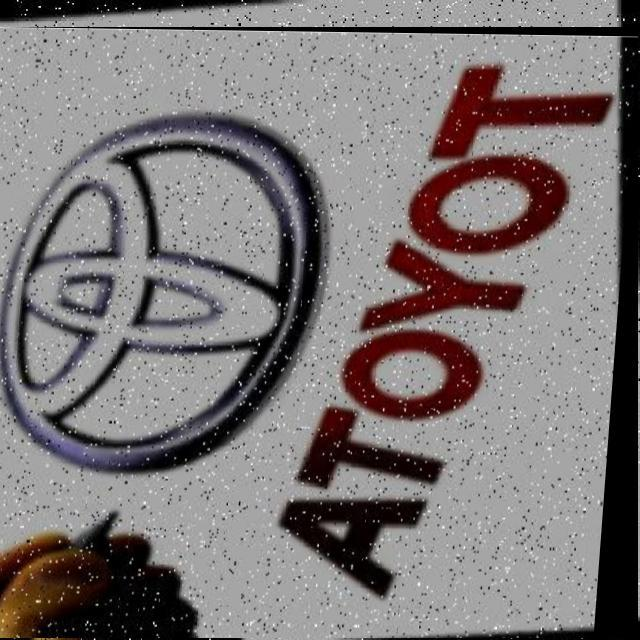Toyota: (0, 27, 638, 638)
